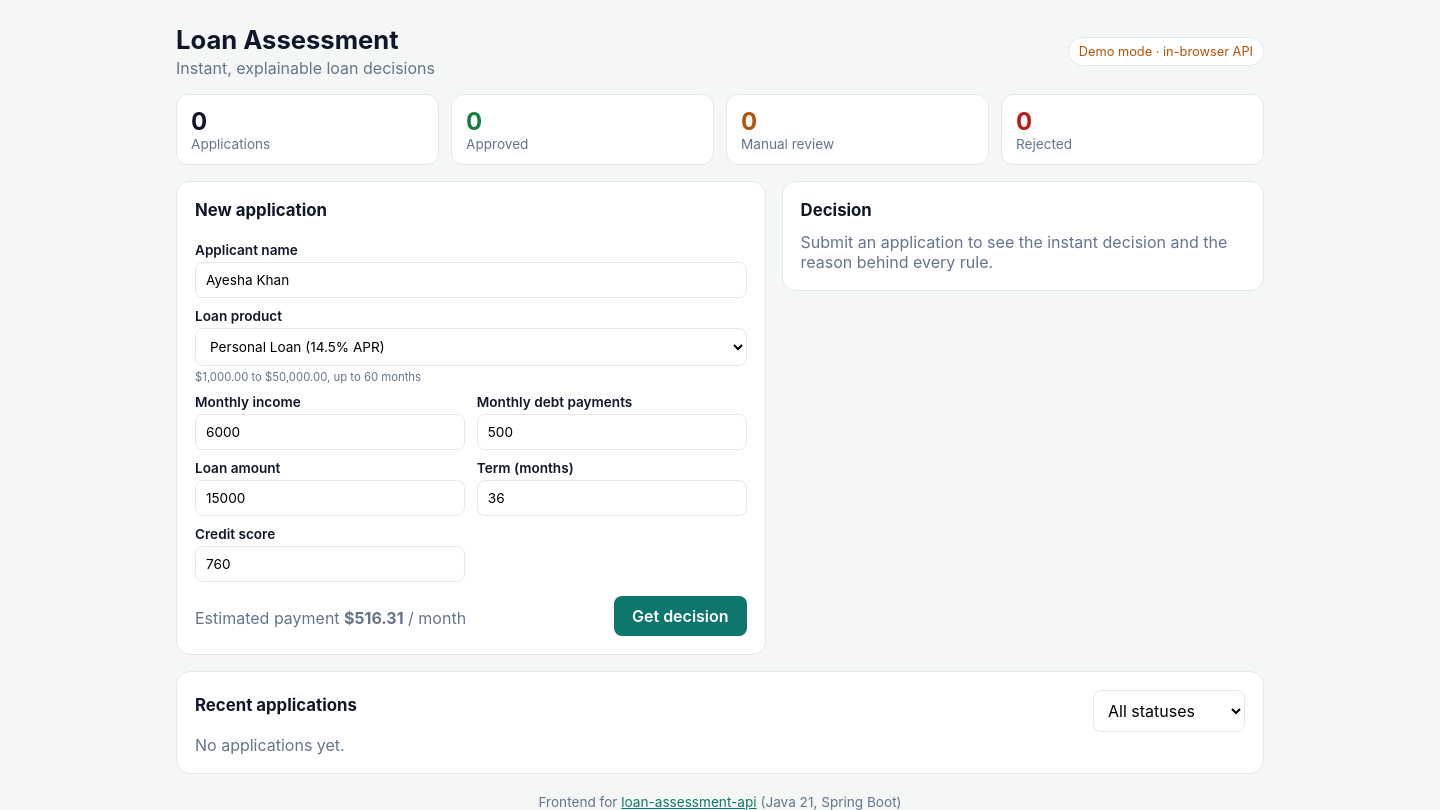
Test: App › submits an application and shows the decision and history
This screenshot has width=1440, height=810.
Click the button "Get decision" at (680, 616), box [614,596,747,636]
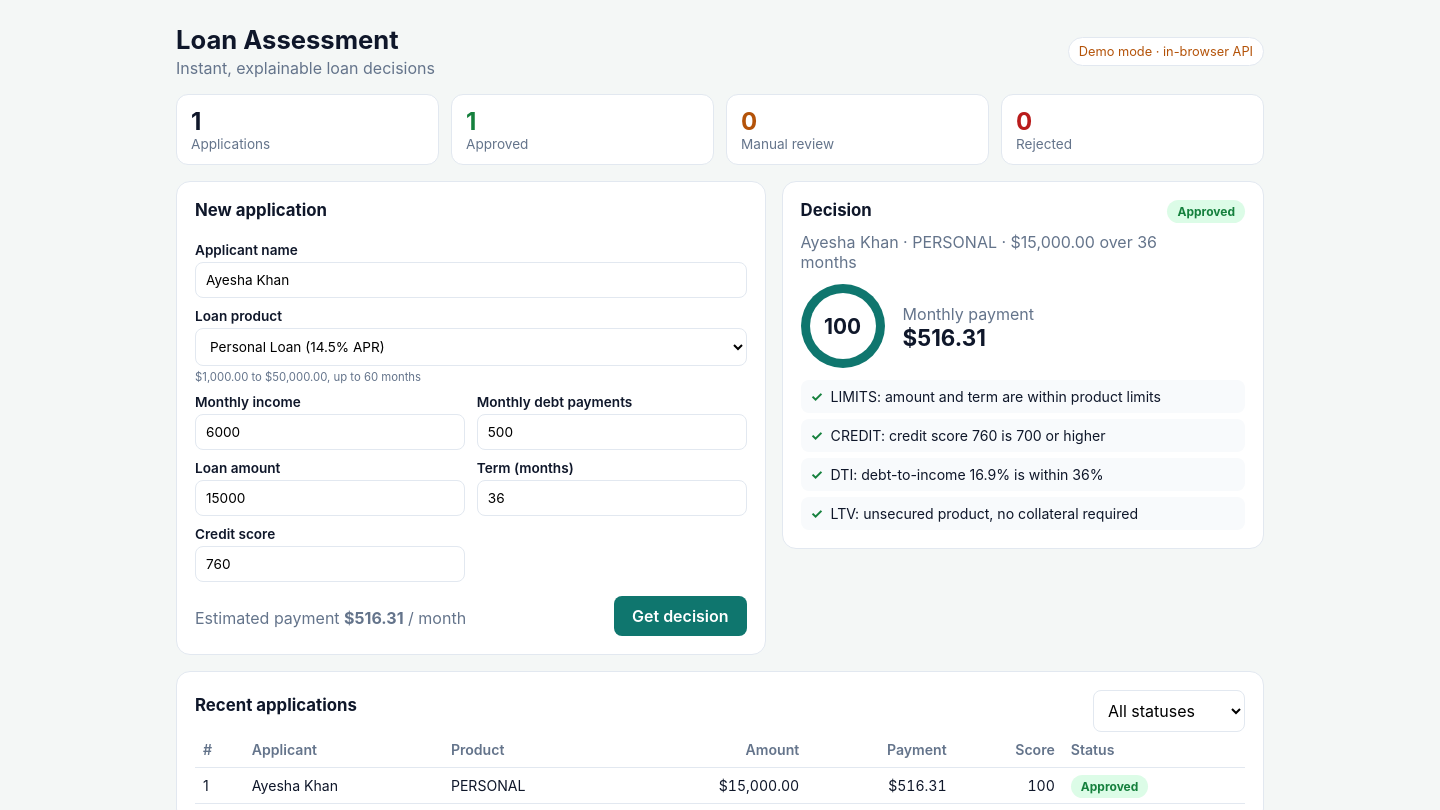
expect the text "Ayesha Khan · PERSONAL · $15,000.00 over 36 months" is shown: met, box [801,232,1160,272]
expect the element with test id "score" reads "100": met, box [824,314,861,339]
expect the list item "DTI: debt-to-income 16.9% is within 36%" is shown: met, box [801,458,1245,491]
